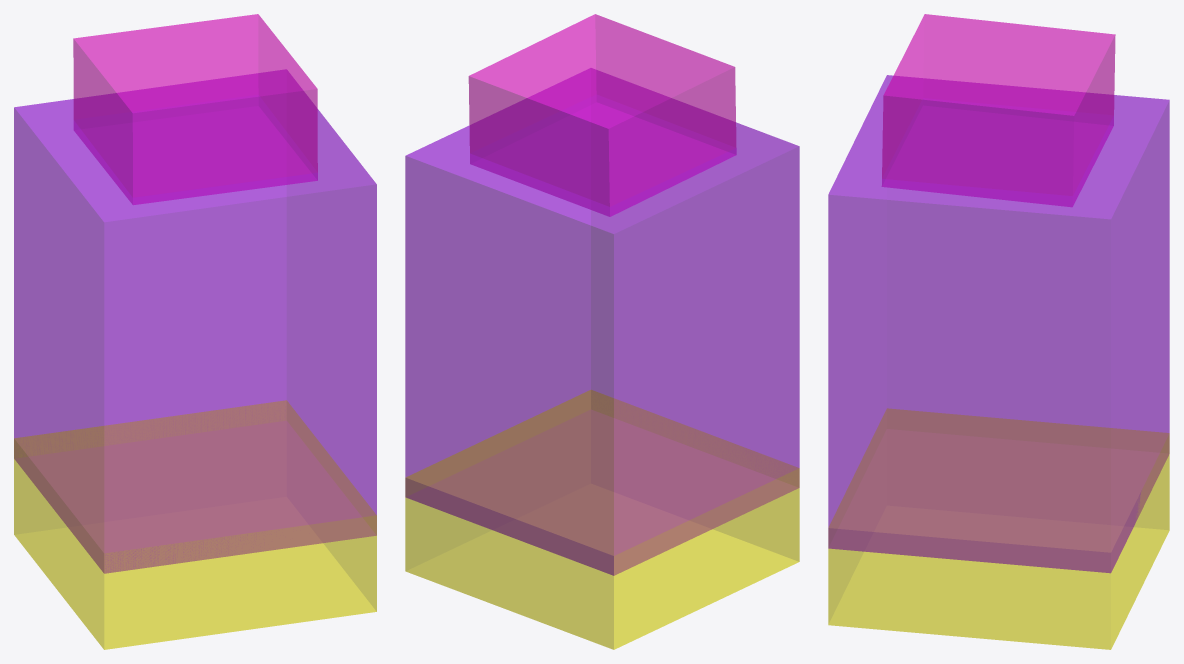
Rendered from ex3_condition.glb.
3 views of the same model, side by side, from view 1: azimuth 30°, elevation 25°; view 2: azimuth 150°, elevation 25°; view 3: azimuth 270°, elevation 25° (orthographic). The views are drawn at different scales.
Visible parts, largest first — view 1: part_0, part_2, part_1; view 2: part_0, part_2, part_1; view 3: part_0, part_2, part_1.
Part boxes in pixels (x1,y1,x2,y2): part_0: (14, 69, 376, 573); part_2: (14, 400, 376, 649); part_1: (73, 14, 317, 204); part_0: (405, 68, 799, 575); part_2: (405, 390, 799, 649); part_1: (468, 14, 736, 216); part_0: (828, 75, 1169, 573); part_2: (828, 408, 1169, 649); part_1: (882, 14, 1115, 206).
Size of the model in its own units: 0.7181 by 1.19 by 0.7176.
